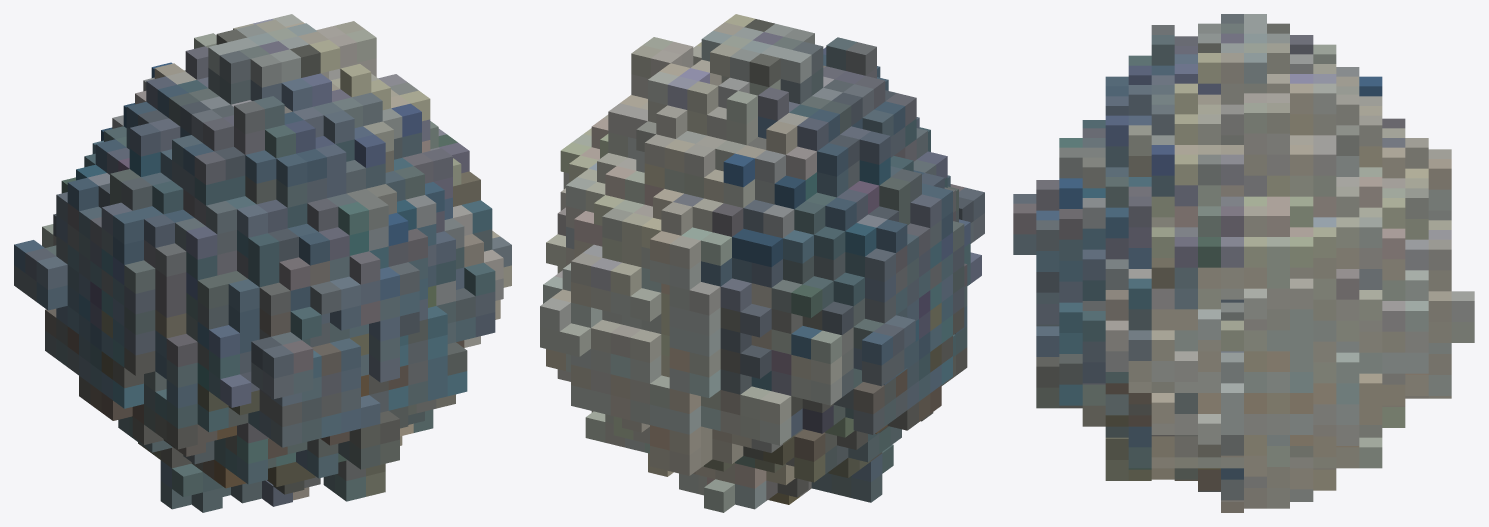
File: asteroid_0304124602.glb
The picture shows the model from 3 angles, left to right: view 1: azimuth 30°, elevation 25°; view 2: azimuth 150°, elevation 25°; view 3: azimuth 270°, elevation 25°; orthographic projection.
Size of the model in its own units: 1.6 by 1.85 by 1.68.
